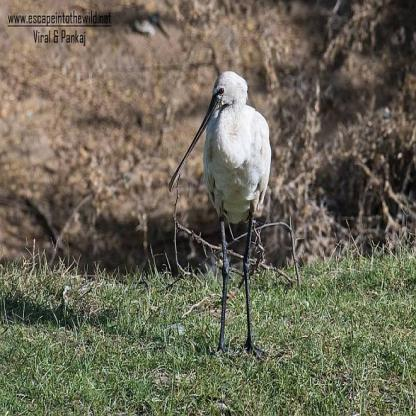Burung: (168, 69, 271, 350)
